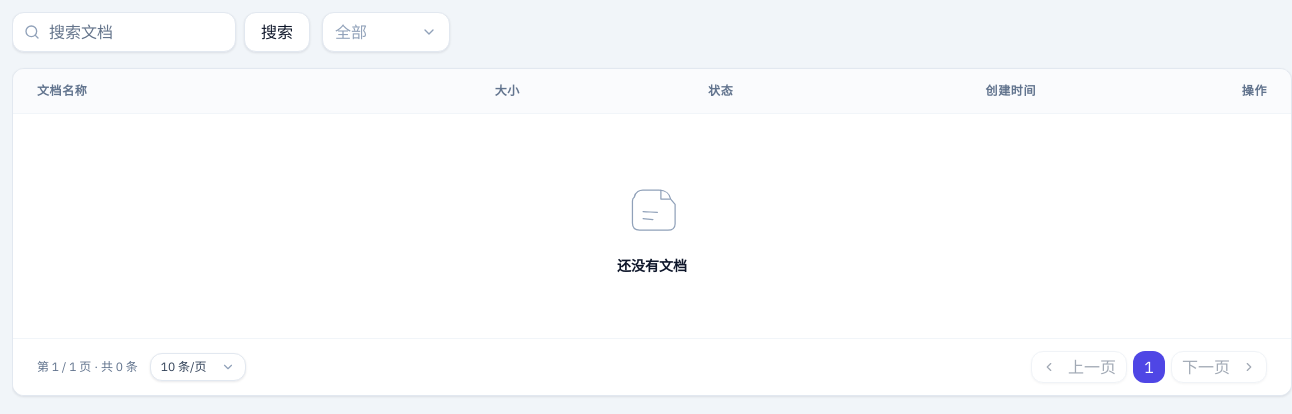
Test: resource lists request server pages › polls while documents outside the current result are parsing and refreshes parent metadata on completion
The image size is (1292, 414).
Press the mouse on the button "全部": (386, 32) [322,12,450,52]
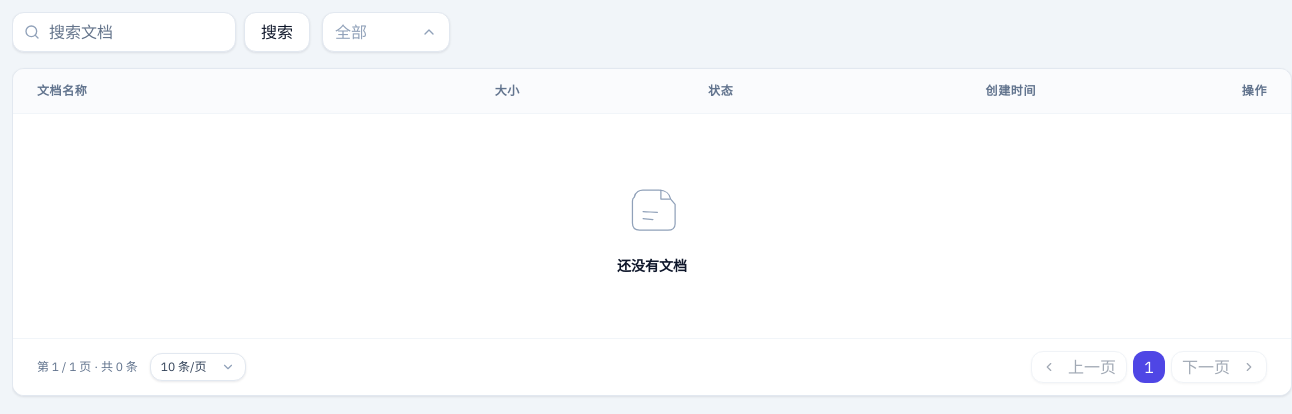
Press ArrowDown in the button "全部", box [322,12,450,52]
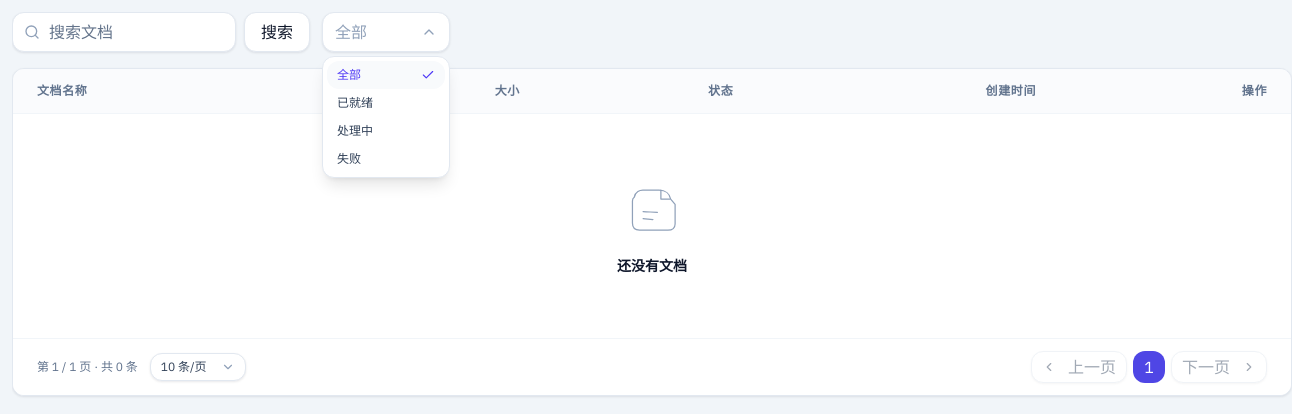
Click the menu item "已就绪": (355, 102) [337,95,373,110]
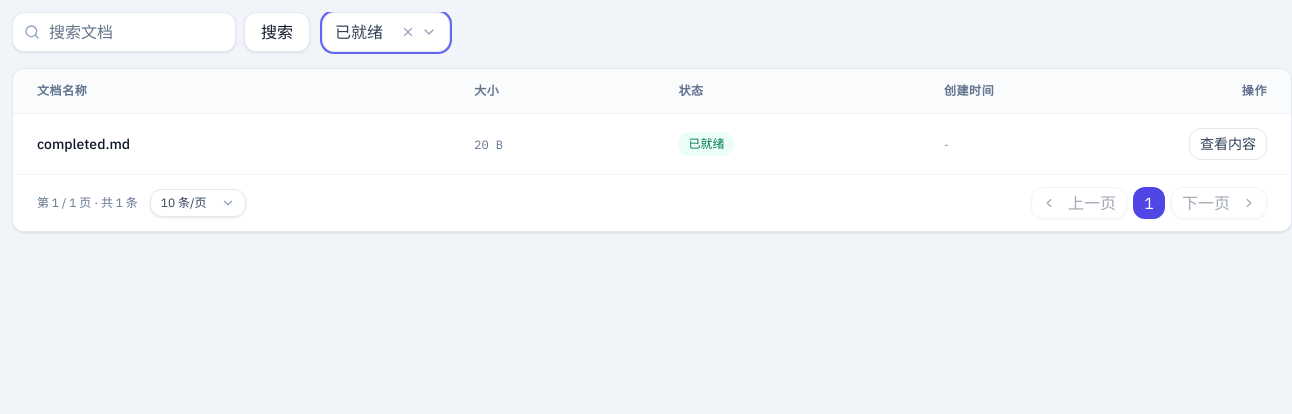
Result: the text "completed.md" is shown at [37,135,130,153]
